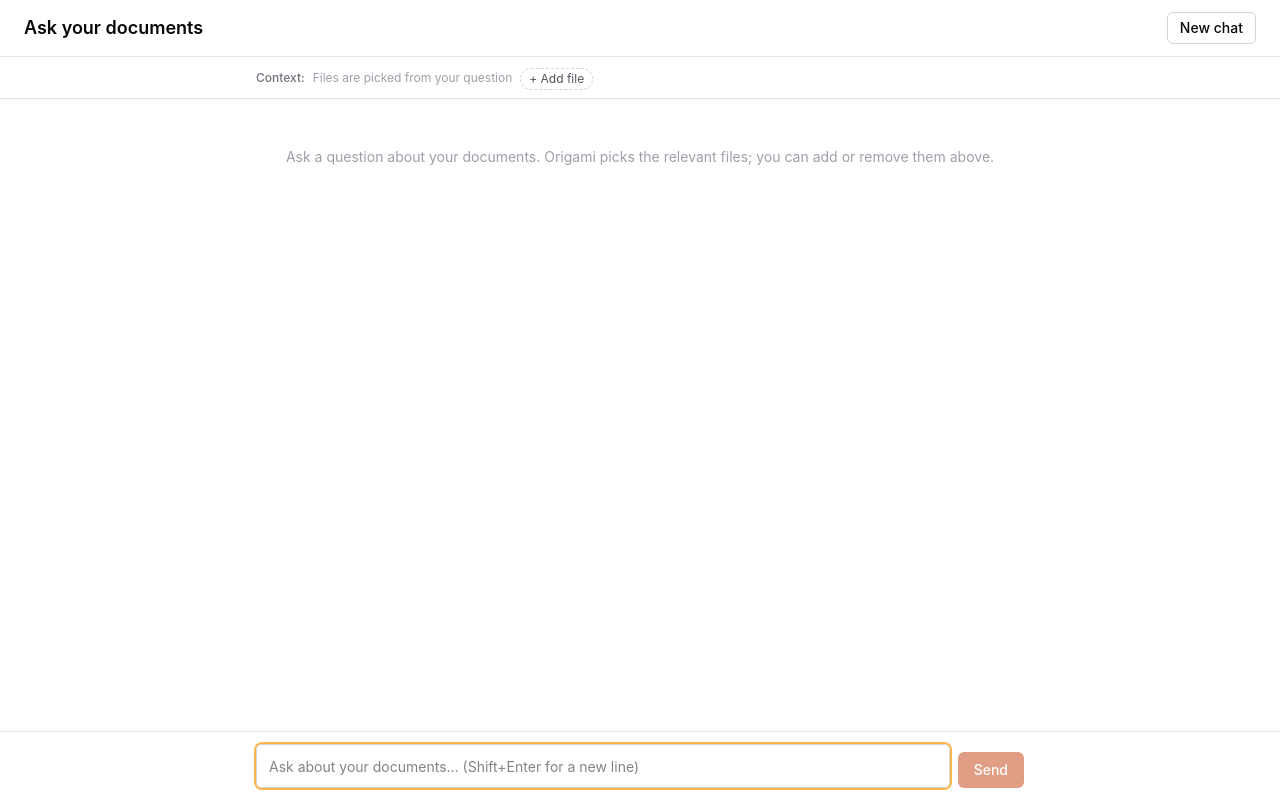
Test: sends the history on follow-ups and keeps a removed auto file excluded
In the text box named "Message": (603, 766) [256,744,950,788], type "Quanto ho pagato?"
Then press Enter
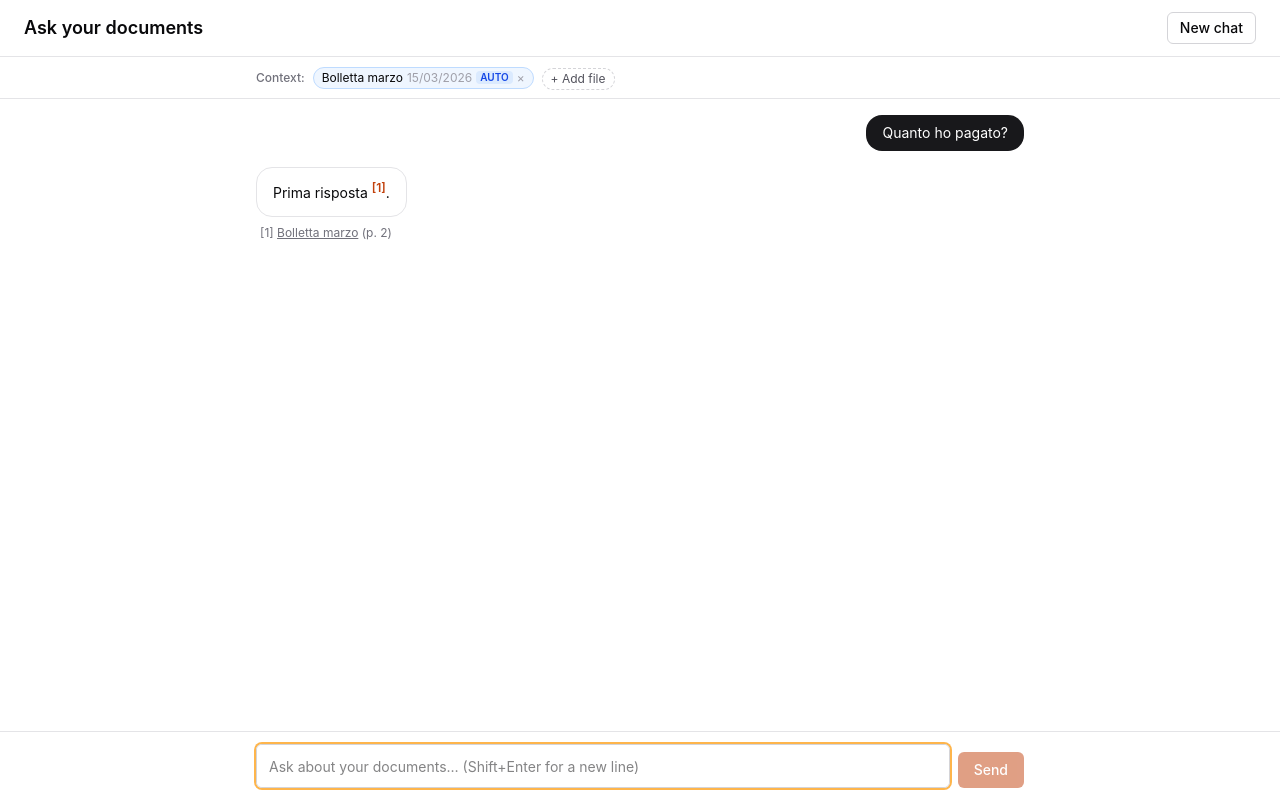
Expected: the text "Prima risposta [1] ." is shown, [273,180,390,204]
Click the button named "Remove Bolletta marzo": (521, 78) [517,70,525,86]
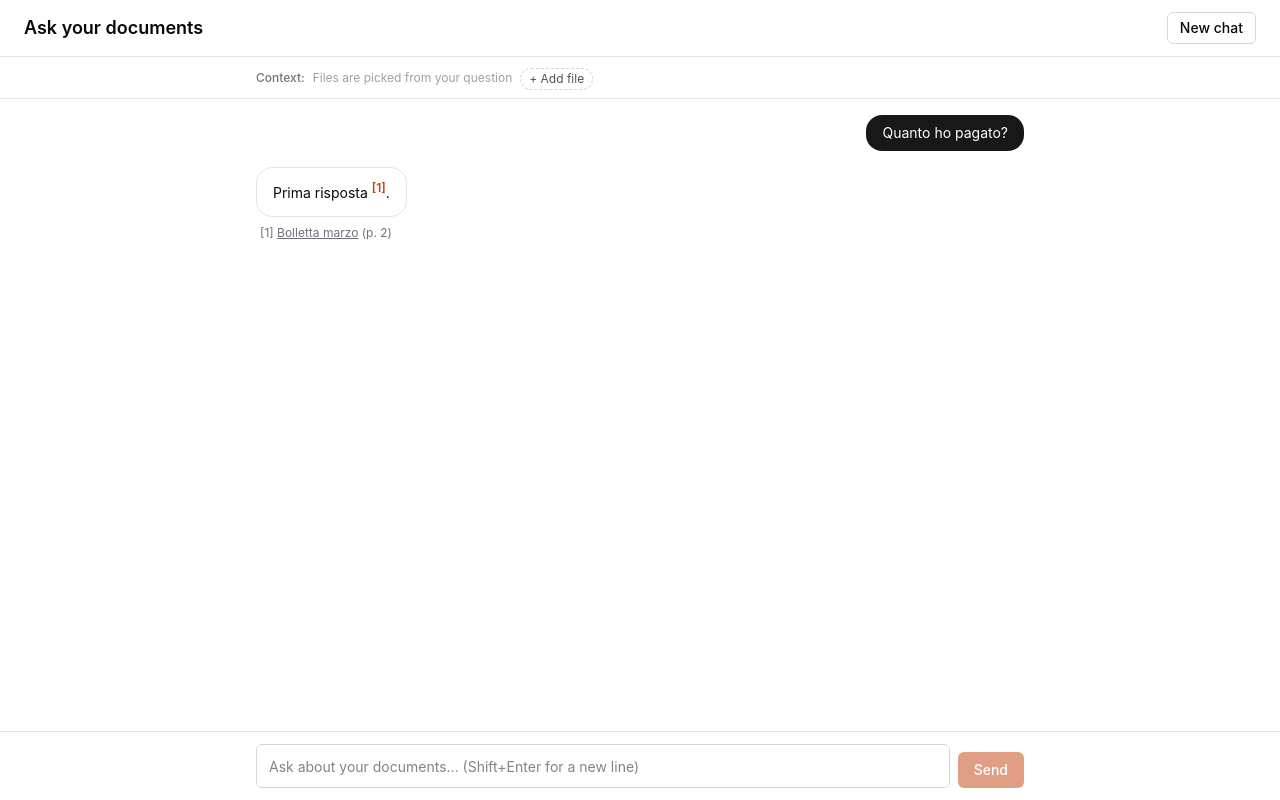
In the text box named "Message": (603, 766) [256,744,950,788], type "E a febbraio?"
Then press Enter
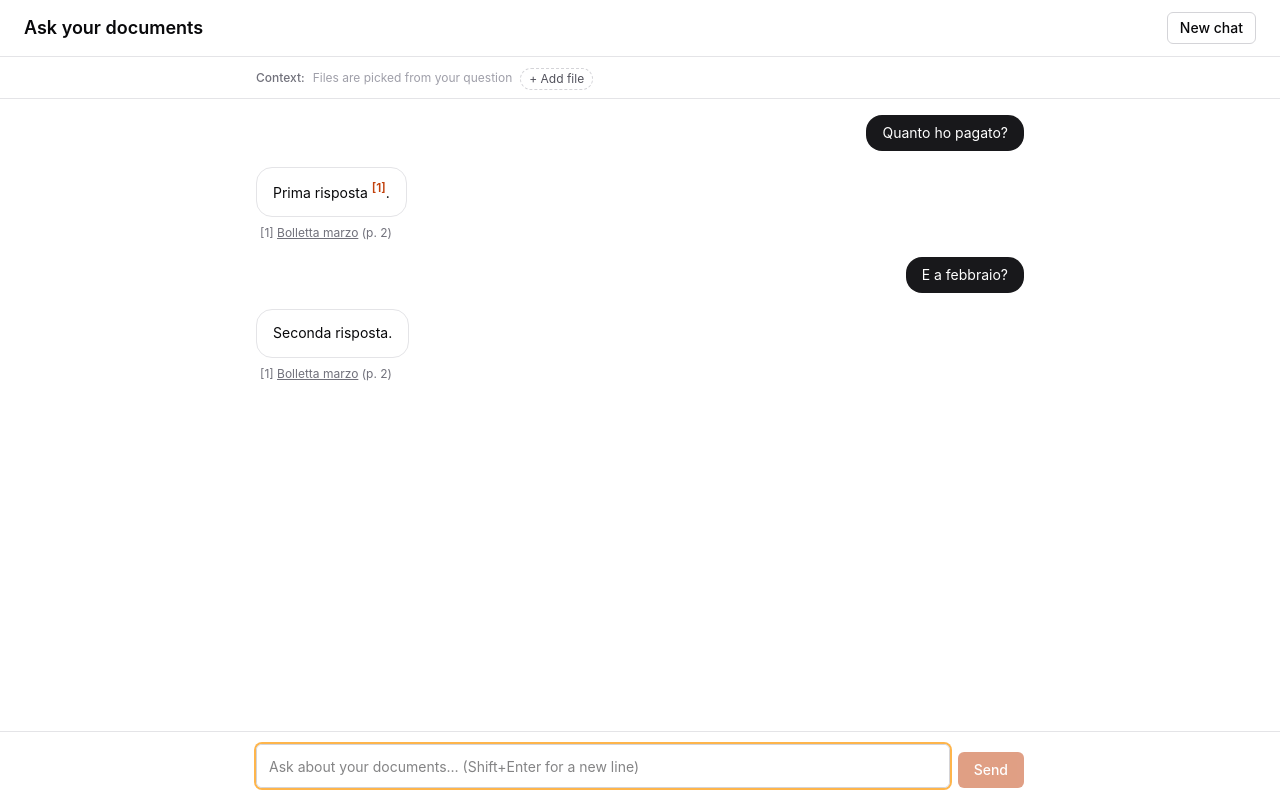
Expected: the text "Seconda risposta." is shown, [273,322,392,345]
